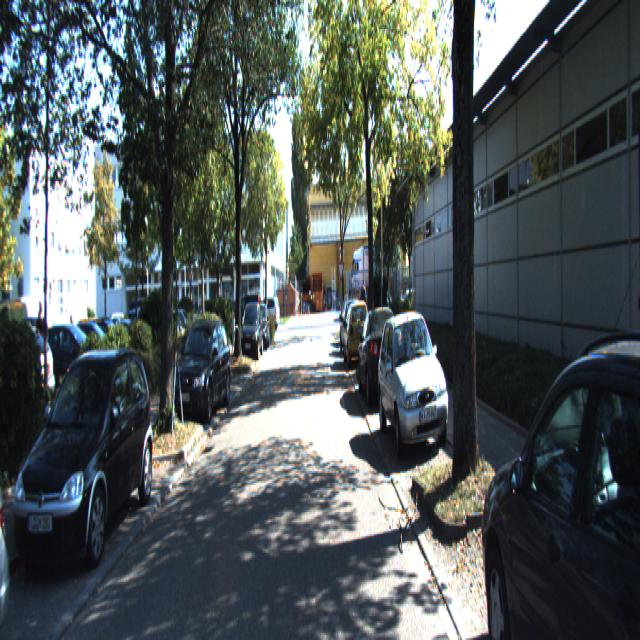Car: (477, 307, 640, 638), (12, 338, 156, 584), (377, 304, 454, 462), (170, 315, 232, 426), (356, 304, 407, 410), (342, 299, 372, 373), (240, 303, 264, 364), (339, 301, 363, 361), (251, 296, 281, 329), (252, 303, 270, 352)
